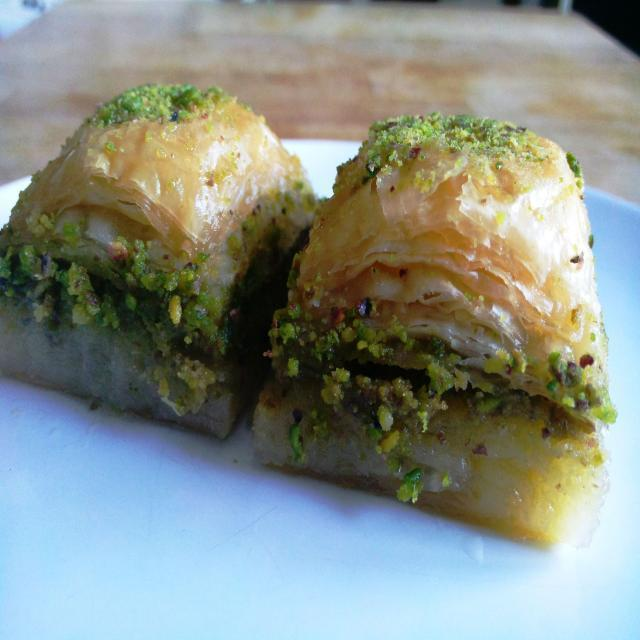baklava: (280, 115, 586, 542), (11, 90, 305, 463)
